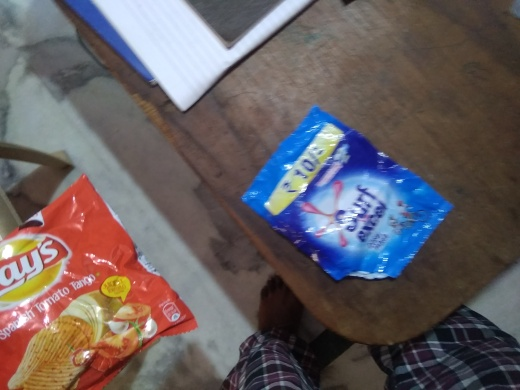lays: (3, 159, 203, 390)
surf: (223, 104, 461, 278)
